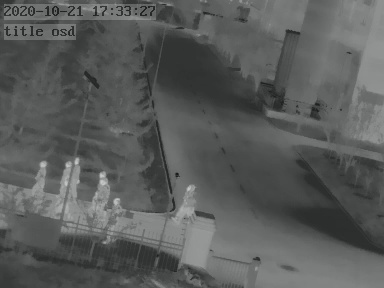person: (30, 159, 49, 202), (182, 181, 200, 223), (88, 169, 106, 210), (58, 157, 74, 201), (71, 157, 82, 200)
